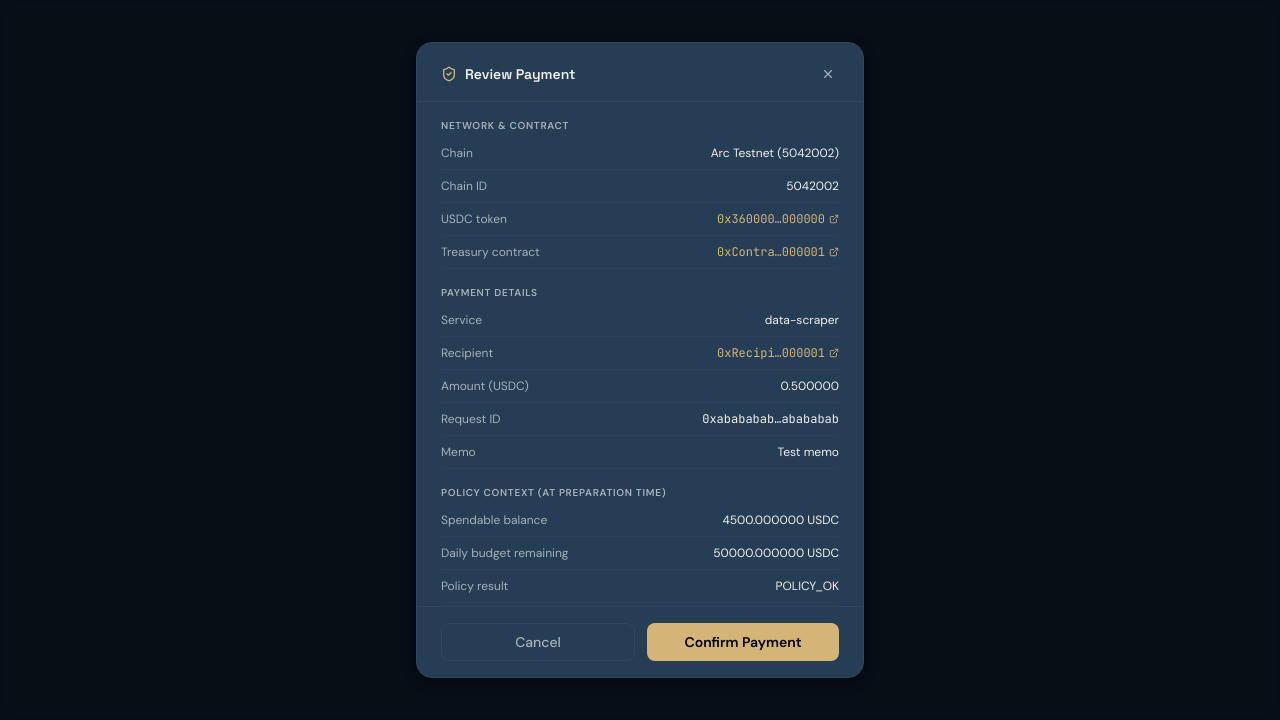
Test: ReviewPaymentModal — wallet rejection › shows rejected state when wallet rejects
Click the button with test id "modal-confirm-btn": [743, 642] box [647,623,839,661]
(page scrolled)
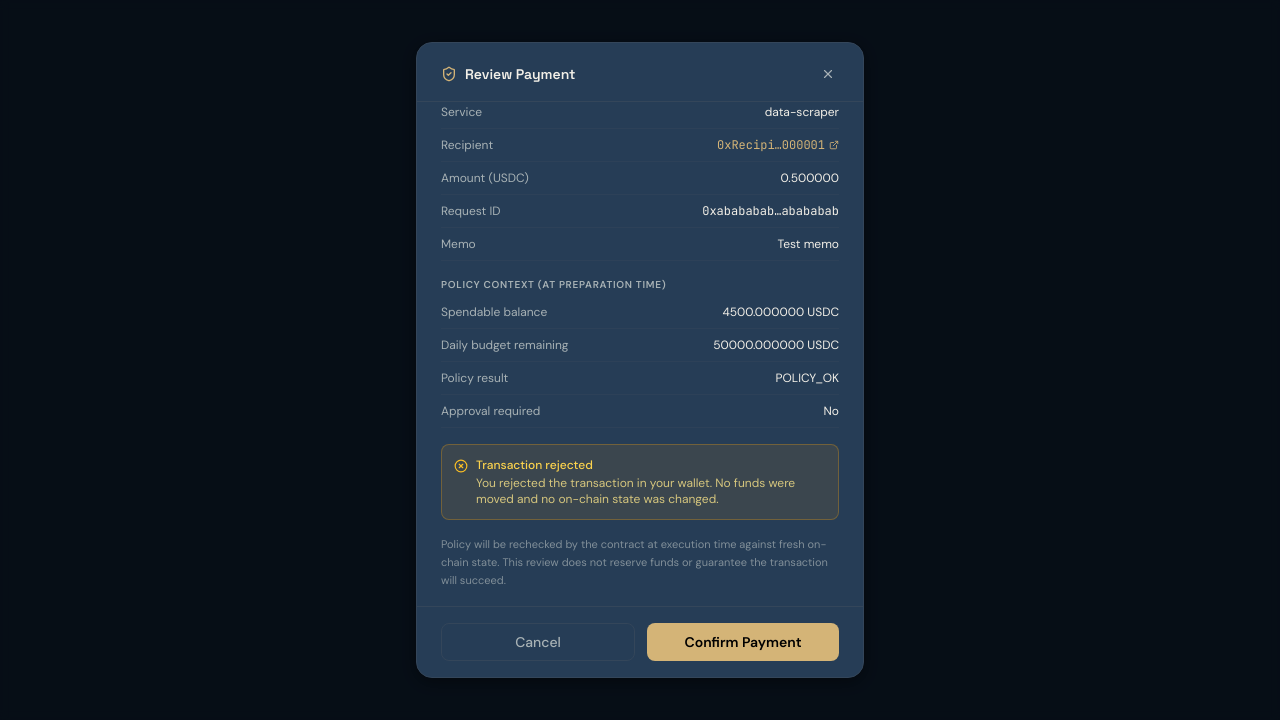
Expected: the element with test id "modal-rejected" is shown, [441,444,839,520]
